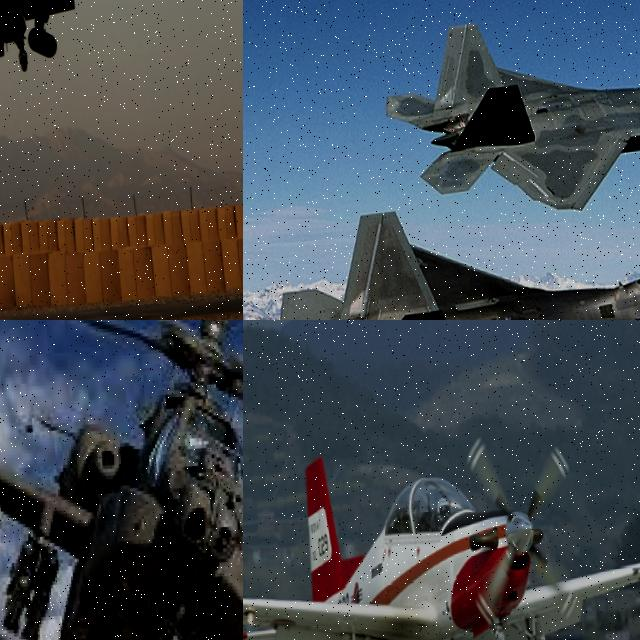Apache: (0, 320, 243, 640), (0, 0, 193, 150)
F22: (380, 1, 640, 233), (272, 182, 640, 320)
KT-1: (243, 415, 640, 640)
